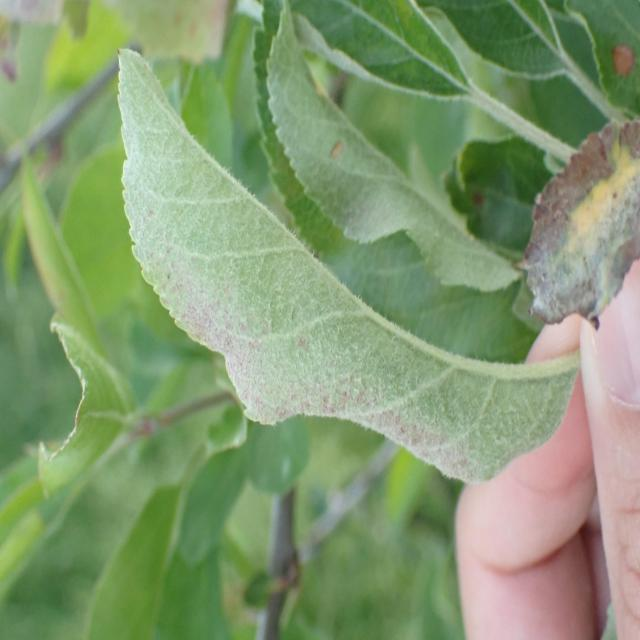Black Rot: (601, 7, 637, 104), (314, 127, 354, 178), (464, 173, 498, 227)
Powdery_mildew: (108, 44, 507, 493)
